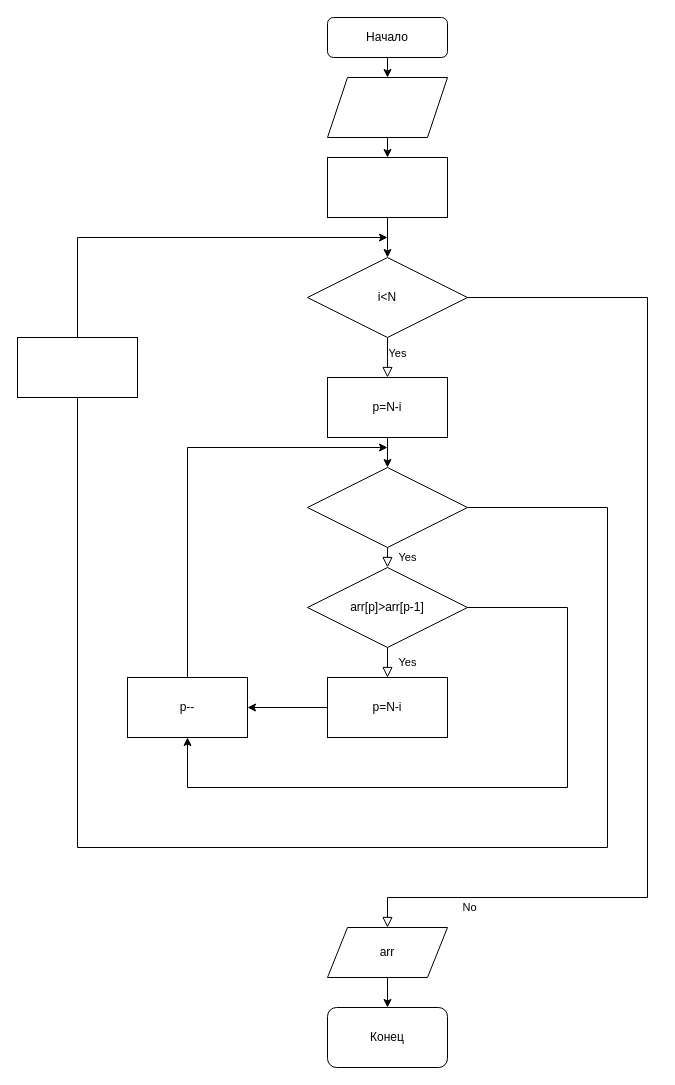
The diagram is 675 pixels wide and 1085 high, and some of its shapes have lost their labels. The shapes that lost their labels are listed below. From the top down, each one's box as (x1, y1, x2, y2) in pixels, then its label:
(326, 76, 448, 138): Ввод arr[],n
(326, 156, 448, 218): i=0
(16, 336, 138, 398): i++
(306, 466, 468, 548): p>0
